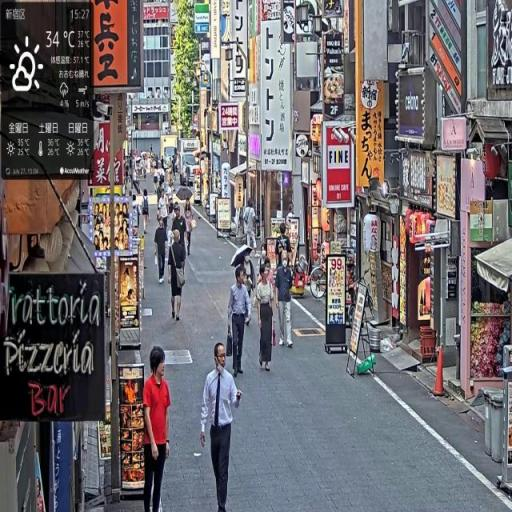person: (200, 339, 244, 512), (144, 346, 173, 512), (227, 264, 253, 380), (255, 259, 278, 376), (275, 249, 298, 351), (169, 230, 188, 323), (156, 215, 170, 284), (183, 197, 197, 260)
